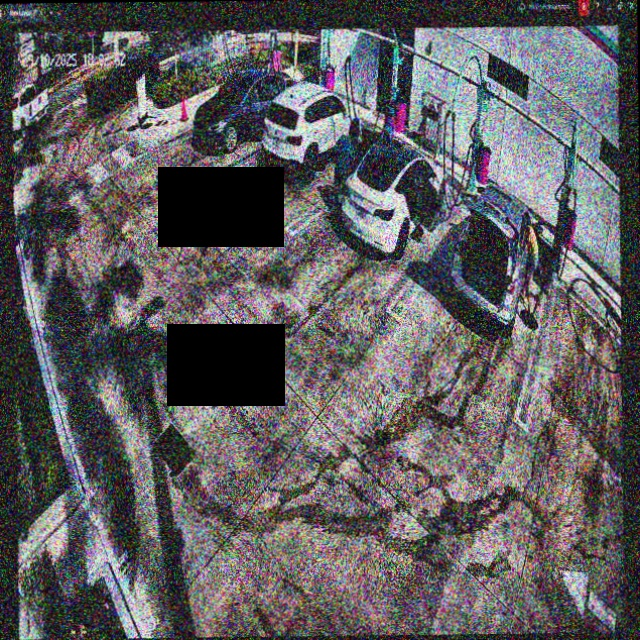Car: (452, 183, 558, 333), (342, 126, 449, 264), (258, 89, 363, 189), (191, 67, 293, 160)
